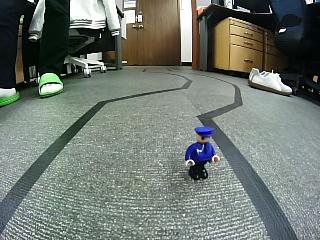person: (184, 127, 221, 180)
